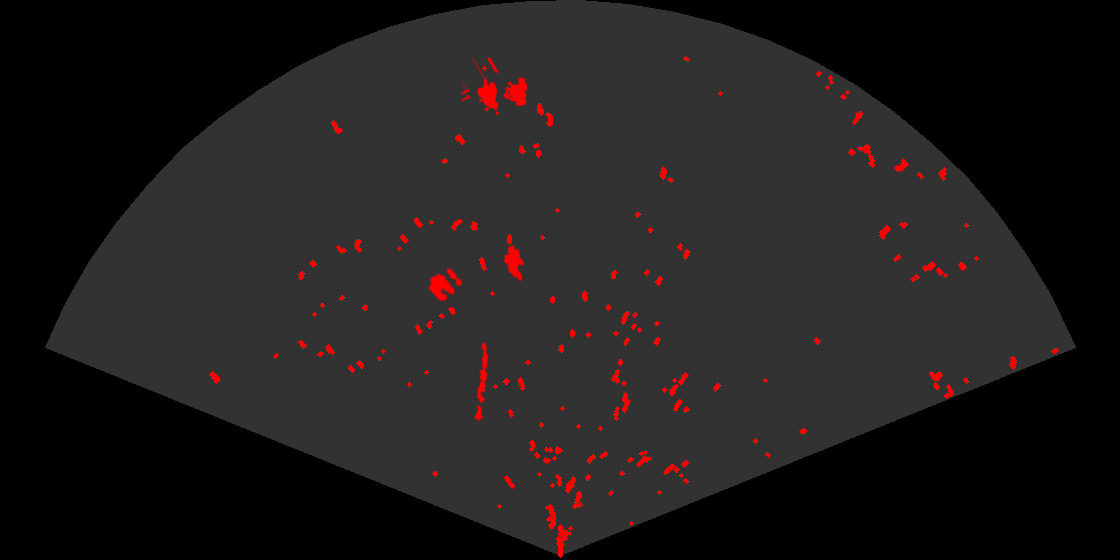AUV: (502, 243, 526, 283)
ball: (427, 266, 464, 303)
cage: (462, 58, 529, 117)
chain: (473, 341, 490, 423)
